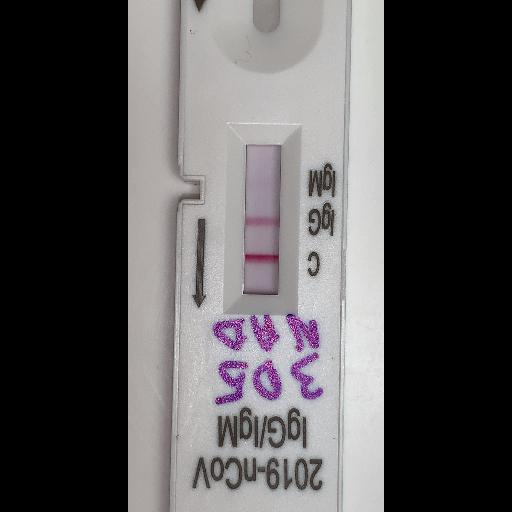Pos: (178, 0, 344, 512)
